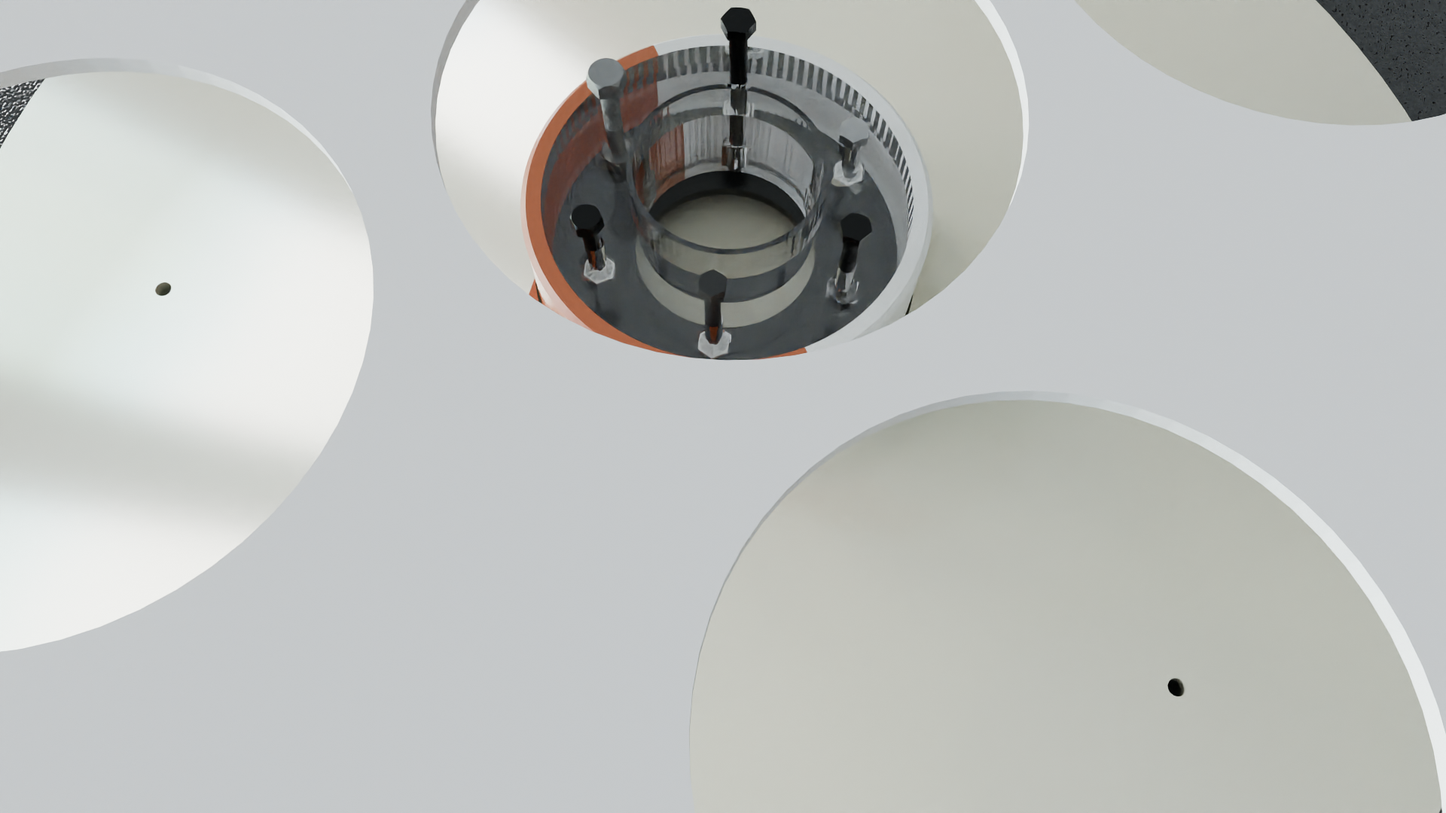bolt: (586, 58, 626, 90), (840, 212, 872, 241), (569, 204, 602, 231), (721, 8, 756, 33), (698, 269, 726, 297), (840, 117, 869, 143)
